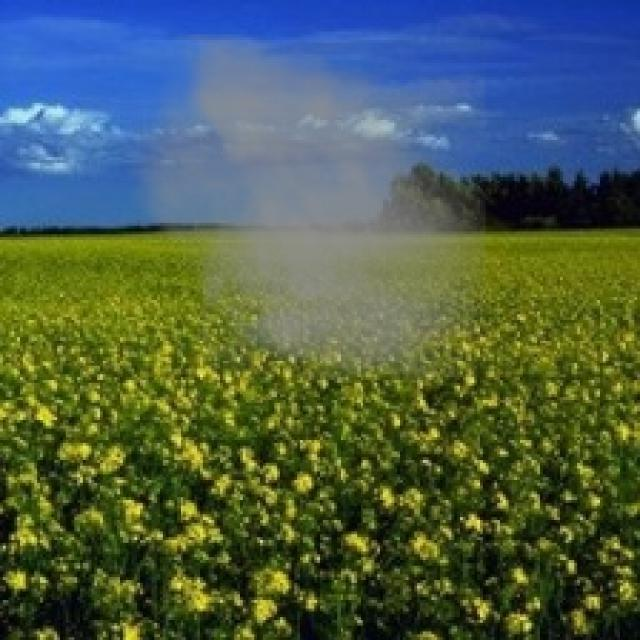Smoke: (117, 34, 486, 383)
